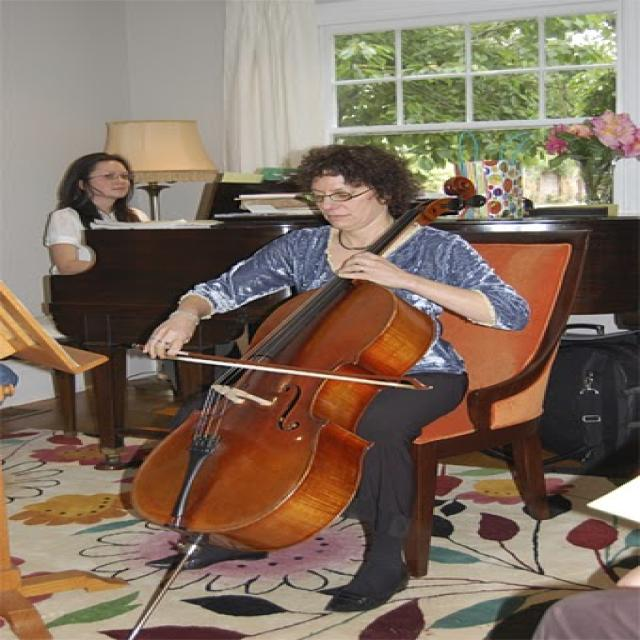cello: (128, 177, 496, 556)
